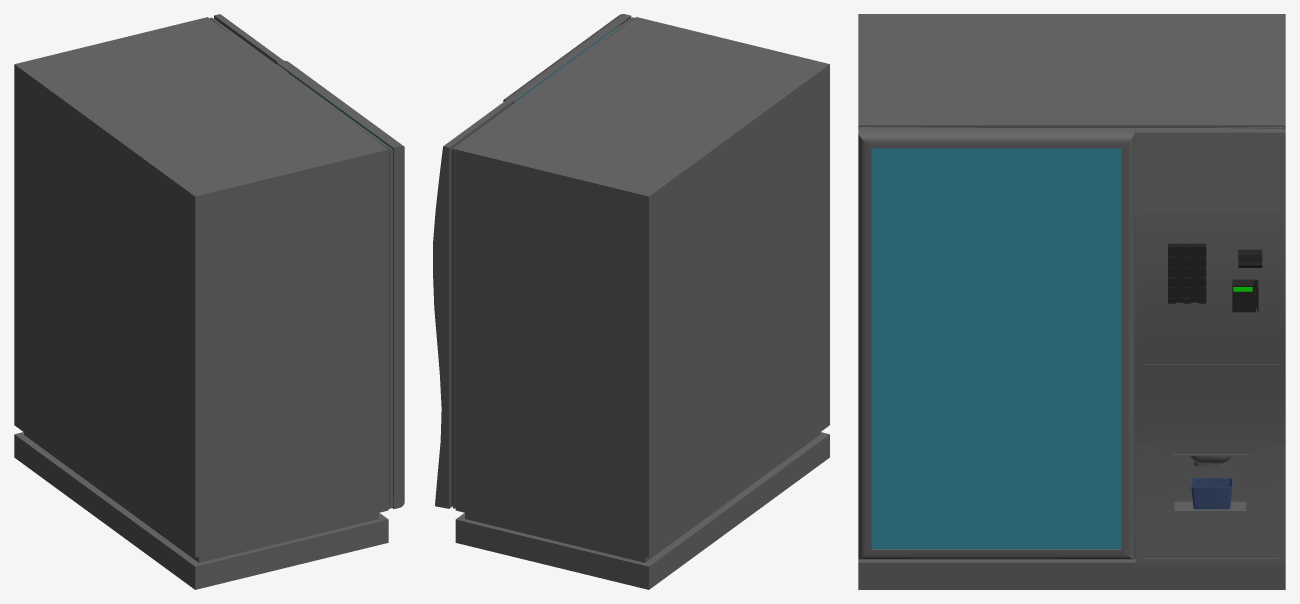
File: vendingmachine.fbx
3 views of the same model, side by side, from view 1: azimuth 30°, elevation 25°; view 2: azimuth 150°, elevation 25°; view 3: azimuth 270°, elevation 25° (orthographic). The views are drawn at different scales.
Visible parts, largest first — view 1: pCube92, pCube2423, pCube106, pCube1918, pCube118, pCube38; view 2: pCube92, pCube2423, pCube118, pCube1918, pCube106; view 3: pCube38, pCube118, pCube92, pCube106, pCube2423, pCube1312, pCube3143, pCube1414, pCube1918.
Boxes of the visible parts, x1,y1,x2,y2 form: pCube92: [14, 17, 388, 557]; pCube2423: [14, 432, 388, 589]; pCube106: [276, 60, 404, 508]; pCube1918: [210, 17, 392, 508]; pCube118: [214, 14, 283, 63]; pCube38: [291, 74, 393, 490]; pCube92: [455, 17, 829, 557]; pCube2423: [455, 432, 829, 589]; pCube118: [433, 100, 512, 508]; pCube1918: [451, 17, 634, 508]; pCube106: [503, 14, 631, 103]; pCube38: [871, 148, 1121, 548]; pCube118: [1135, 129, 1285, 564]; pCube92: [858, 14, 1285, 128]; pCube106: [858, 128, 1134, 559]; pCube2423: [858, 559, 1285, 589]; pCube1312: [1168, 243, 1206, 303]; pCube3143: [1191, 478, 1232, 509]; pCube1414: [1232, 279, 1258, 312]; pCube1918: [859, 127, 1283, 128].
Size of the model in its own units: 3.15 by 5.27 by 4.4.
